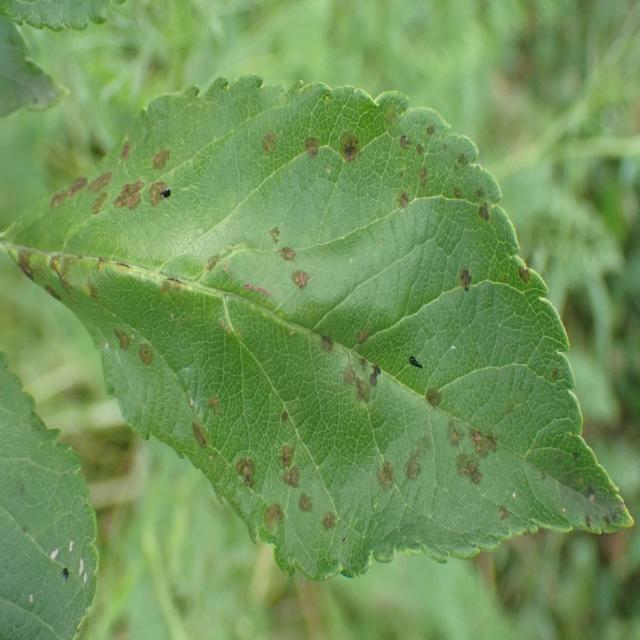scab: (1, 247, 273, 373), (531, 426, 629, 550), (456, 418, 502, 498), (341, 345, 382, 417), (402, 432, 437, 494), (89, 156, 114, 228), (340, 123, 371, 179), (48, 167, 88, 210), (298, 124, 334, 170), (369, 446, 396, 503), (386, 102, 416, 153), (314, 506, 346, 553), (467, 182, 494, 232), (232, 450, 258, 500), (268, 225, 298, 268), (419, 121, 450, 161), (188, 417, 214, 464), (114, 176, 146, 214), (287, 268, 316, 309), (450, 261, 478, 303), (442, 408, 469, 451), (278, 442, 303, 488), (261, 504, 291, 540), (512, 253, 536, 295), (393, 180, 415, 223), (291, 486, 318, 520), (414, 163, 440, 198), (416, 384, 448, 412), (146, 149, 176, 178), (317, 324, 337, 364), (148, 173, 167, 214), (258, 127, 279, 161), (547, 356, 565, 395), (116, 132, 135, 168), (492, 498, 514, 526), (356, 314, 374, 348), (276, 400, 294, 433), (453, 146, 469, 181), (205, 391, 222, 418)
